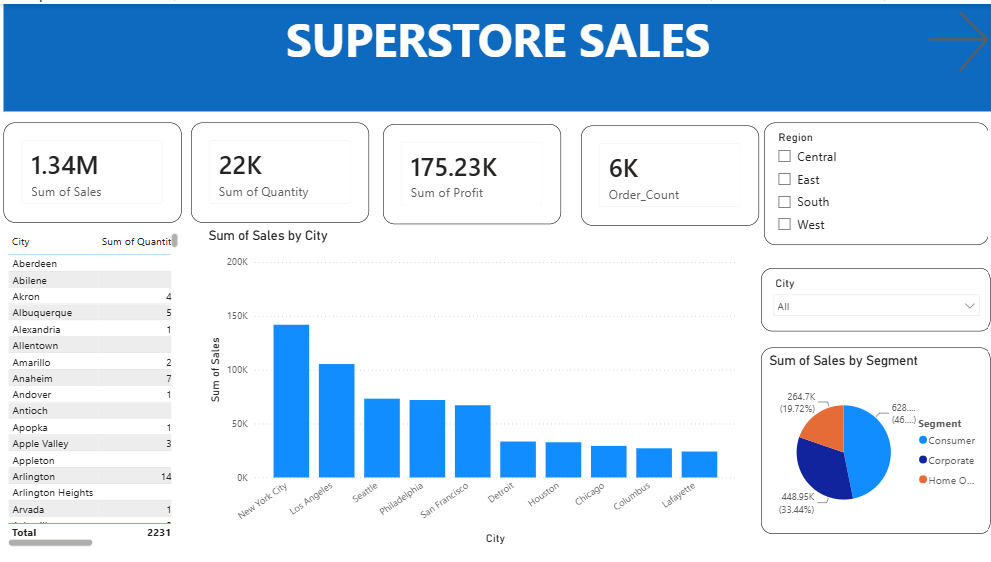

This screenshot's page, from the dashboard's own definition file:
{"tool":"powerbi","page":{"name":"Home","canvas":[1280,720],"ordinal":0},"visuals":[{"type":"textbox","box":[9.4,0,1269.9,138],"z":0},{"type":"cardVisual","fields":{"Data":["Sum(Orders.Profit)"]},"box":[497.3,153.8,228.7,128.5],"z":1000},{"type":"cardVisual","fields":{"Data":["Sum(Orders.Sales)"]},"box":[9.4,153.1,228.7,128.5],"z":2000},{"type":"cardVisual","fields":{"Data":["Sum(Orders.Quantity)"]},"box":[250.6,151.9,228.7,128.5],"z":3000},{"type":"clusteredColumnChart","fields":{"Category":["Orders.City"],"Y":["Sum(Orders.Sales)"]},"box":[267.6,286.6,687.1,411.9],"z":4000},{"type":"slicer","fields":{"Values":["Orders.City"]},"box":[982.7,339.7,296.1,81.6],"z":5000},{"type":"slicer","fields":{"Values":["Orders.Region"]},"box":[985.3,153,288.5,157.5],"z":6000},{"type":"pieChart","fields":{"Category":["Orders.Segment"],"Y":["Sum(Orders.Sales)"]},"box":[982.7,440.8,296.1,239.2],"z":7000},{"type":"cardVisual","fields":{"Data":["Orders.SUMOF"]},"box":[751.9,155.6,228.7,128.5],"z":8000},{"type":"tableEx","fields":{"Values":["Orders.City","Sum(Orders.Quantity)","Sum(Orders.Sales)","Sum(Orders.Profit)"]},"box":[9.5,288.5,229,412],"z":9000},{"type":"actionButton","box":[1187.5,0,93.3,95.9],"z":10000}]}

Visuals, with their boxes in screenshot pixels (x1, y1, x2, y2), scaled from the page's 1280x720 canvas onto the 991x562 screenshot:
textbox: l=7, t=0, r=990, b=108
cardVisual - Sum(Orders.Profit): l=385, t=120, r=562, b=220
cardVisual - Sum(Orders.Sales): l=7, t=120, r=184, b=220
cardVisual - Sum(Orders.Quantity): l=194, t=119, r=371, b=219
clusteredColumnChart - Orders.City x Sum(Orders.Sales): l=207, t=224, r=739, b=545
slicer - Orders.City: l=761, t=265, r=990, b=329
slicer - Orders.Region: l=763, t=119, r=986, b=242
pieChart - Orders.Segment x Sum(Orders.Sales): l=761, t=344, r=990, b=531
cardVisual - Orders.SUMOF: l=582, t=121, r=759, b=222
tableEx - Orders.City x Sum(Orders.Quantity): l=7, t=225, r=185, b=547
actionButton: l=919, t=0, r=990, b=75
